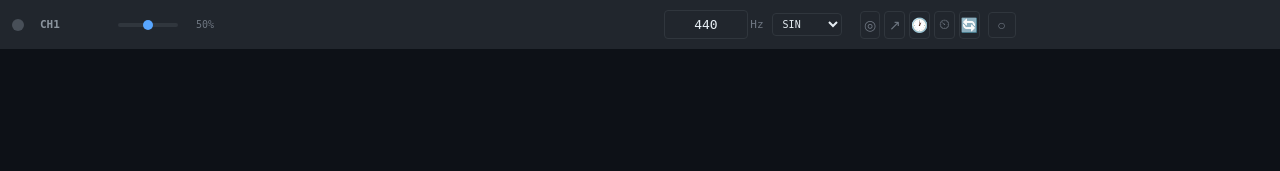
Scenario: Channel Component › expands SWEEP settings when clicked
This screenshot has width=1280, height=171.
Note: Нажимаем на кнопку SWEEP
Click the button "↗" at (895, 24), box [884,10,905,38]
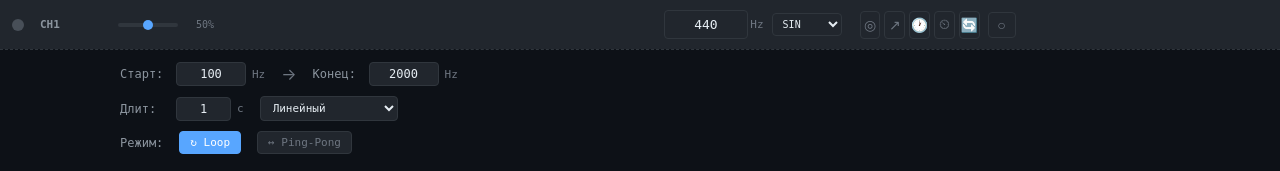
Expected: the text "Старт:" is shown, [120,67,170,81]
Expected: the text "Конец:" is shown, [312,67,362,81]
